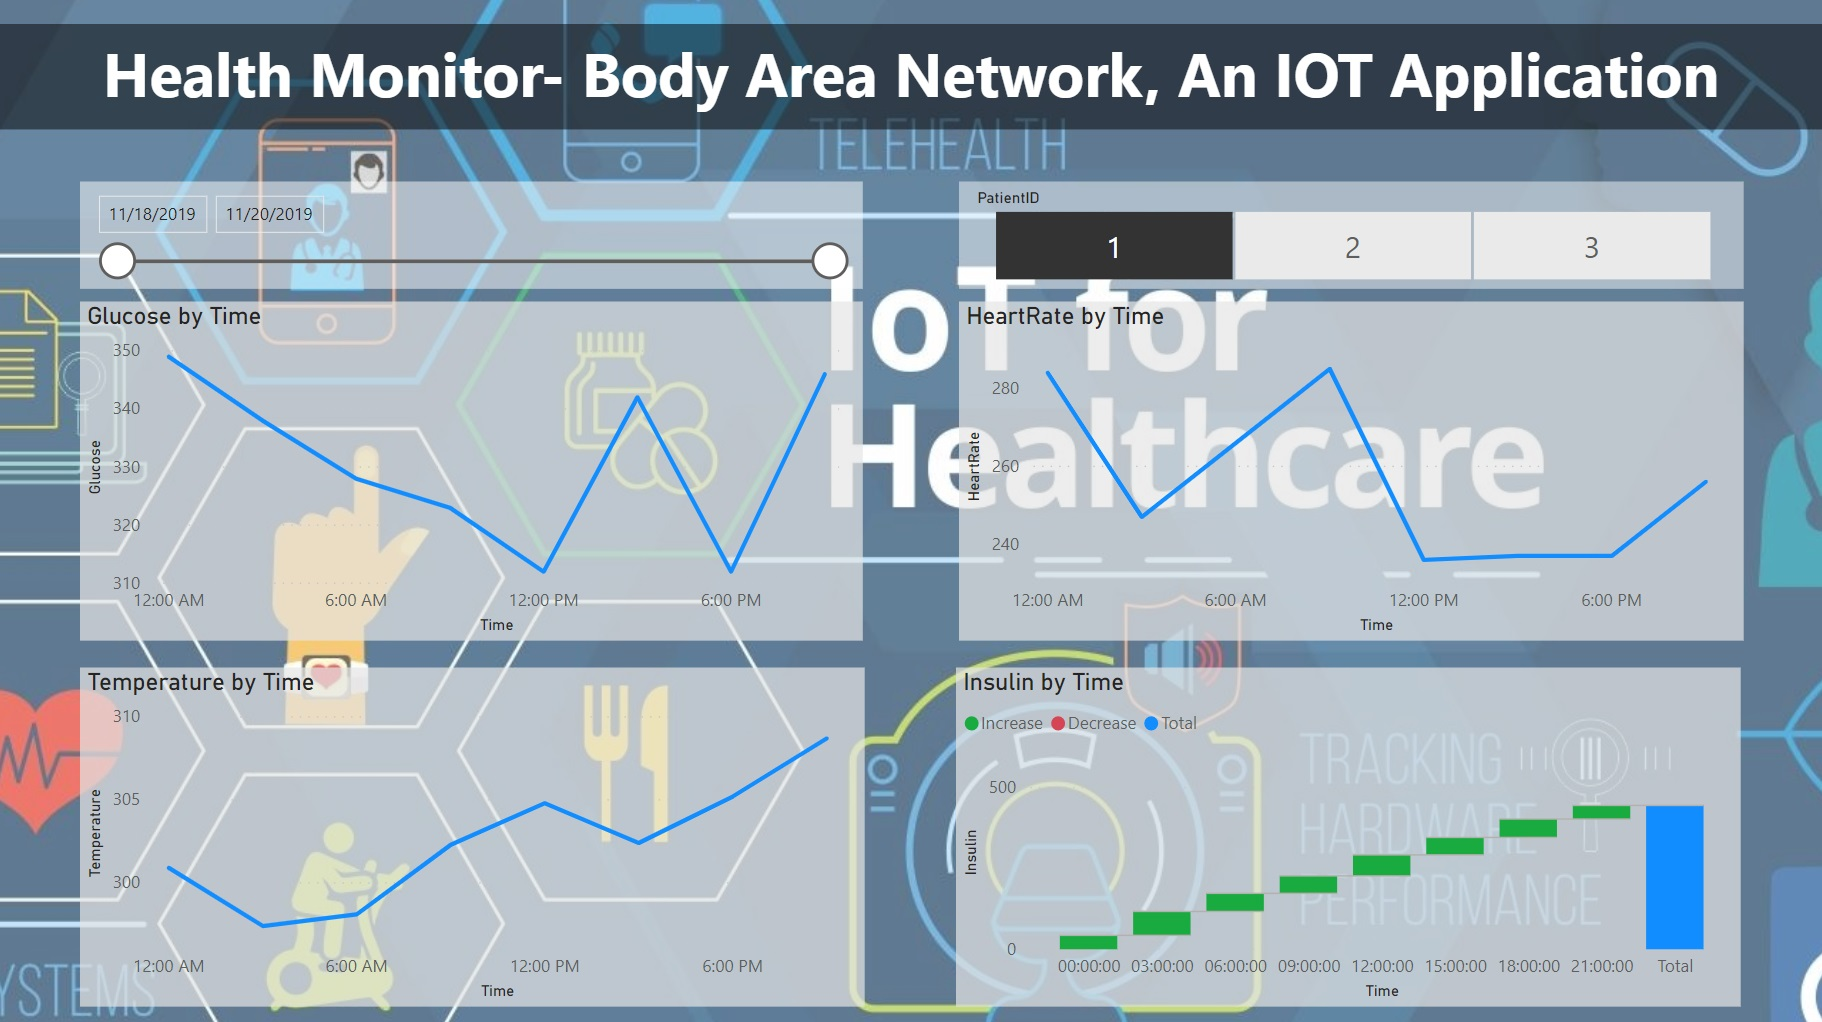

What the dashboard file says about the page in this screenshot:
{"tool":"powerbi","page":{"name":"Page 1","canvas":[1280,720],"ordinal":0},"visuals":[{"type":"lineChart","fields":{"Category":["patient_data.Time"],"Y":["Sum(patient_data.Glucose)"]},"box":[58.1,134.7,549.4,270.6],"z":0},{"type":"slicer","fields":{"Values":["patient_data.Date"]},"box":[58.1,26.7,549.4,92.9],"z":1},{"type":"slicer","fields":{"Values":["patient_data.PatientID"]},"box":[673.7,26.7,550.6,92.9],"z":2},{"type":"lineChart","fields":{"Y":["Sum(patient_data.HeartRate)"],"Category":["patient_data.Time"]},"box":[673.7,134.7,550.6,270.6],"z":3},{"type":"lineChart","fields":{"Y":["Sum(patient_data.Insulin)"],"Category":["patient_data.Time"]},"box":[673.7,419.3,550.6,269.5],"z":4},{"type":"lineChart","fields":{"Y":["Sum(patient_data.Temperature)"],"Category":["patient_data.Time"]},"box":[58.1,419.3,550.6,269.5],"z":5}]}

Visuals, with their boxes in screenshot pixels (x1, y1, x2, y2), scaled from the page's 1280x720 canvas onto the 1822x1022 screenshot:
lineChart - patient_data.Time x Sum(patient_data.Glucose): [x1=83, y1=191, x2=865, y2=575]
slicer - patient_data.Date: [x1=83, y1=38, x2=865, y2=170]
slicer - patient_data.PatientID: [x1=959, y1=38, x2=1743, y2=170]
lineChart - Sum(patient_data.HeartRate) x patient_data.Time: [x1=959, y1=191, x2=1743, y2=575]
lineChart - Sum(patient_data.Insulin) x patient_data.Time: [x1=959, y1=595, x2=1743, y2=978]
lineChart - Sum(patient_data.Temperature) x patient_data.Time: [x1=83, y1=595, x2=866, y2=978]
